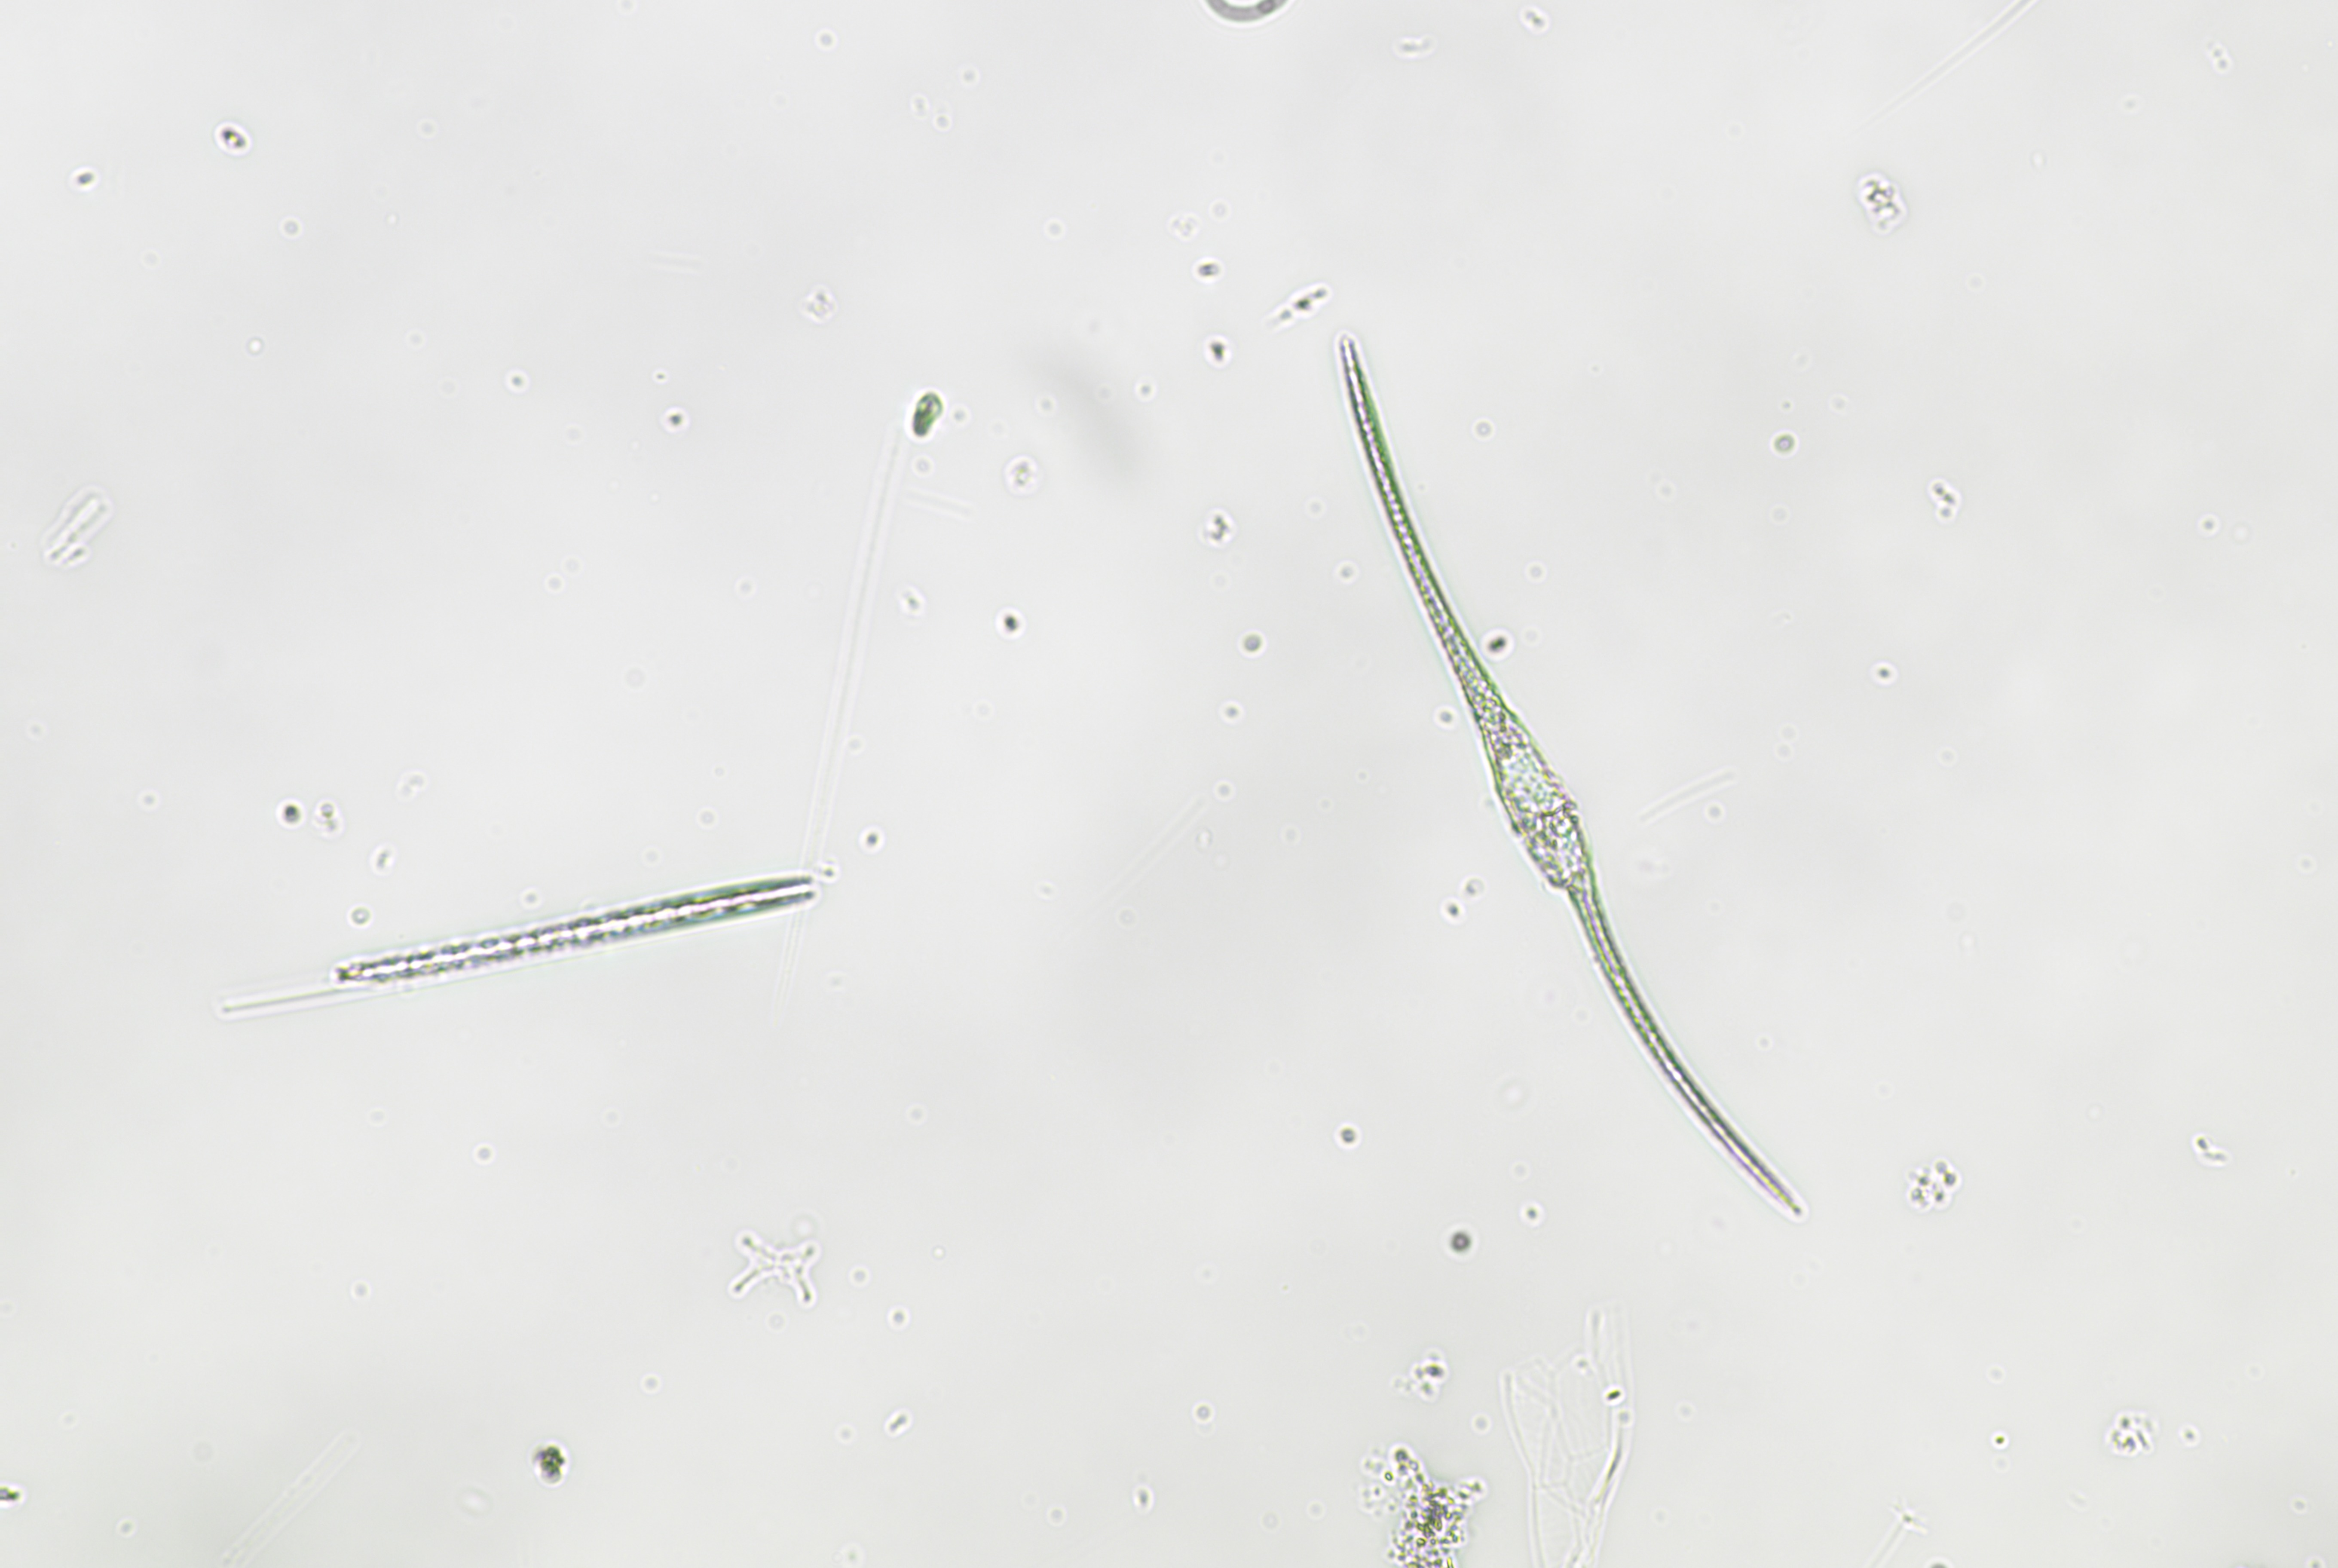ceratium fusus: (1325, 322, 1829, 1256)
